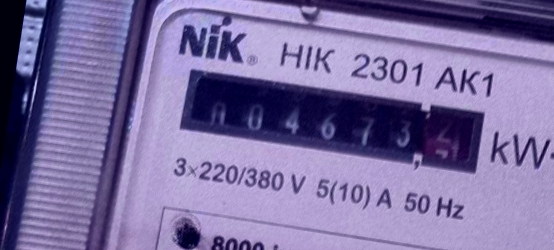0: (206, 95, 231, 128), (244, 99, 267, 132)
2: (433, 112, 458, 146)
3: (393, 115, 415, 151)
4: (282, 101, 305, 138)
6: (316, 106, 341, 143)
7: (353, 112, 380, 151)
screen: (174, 62, 491, 184)
